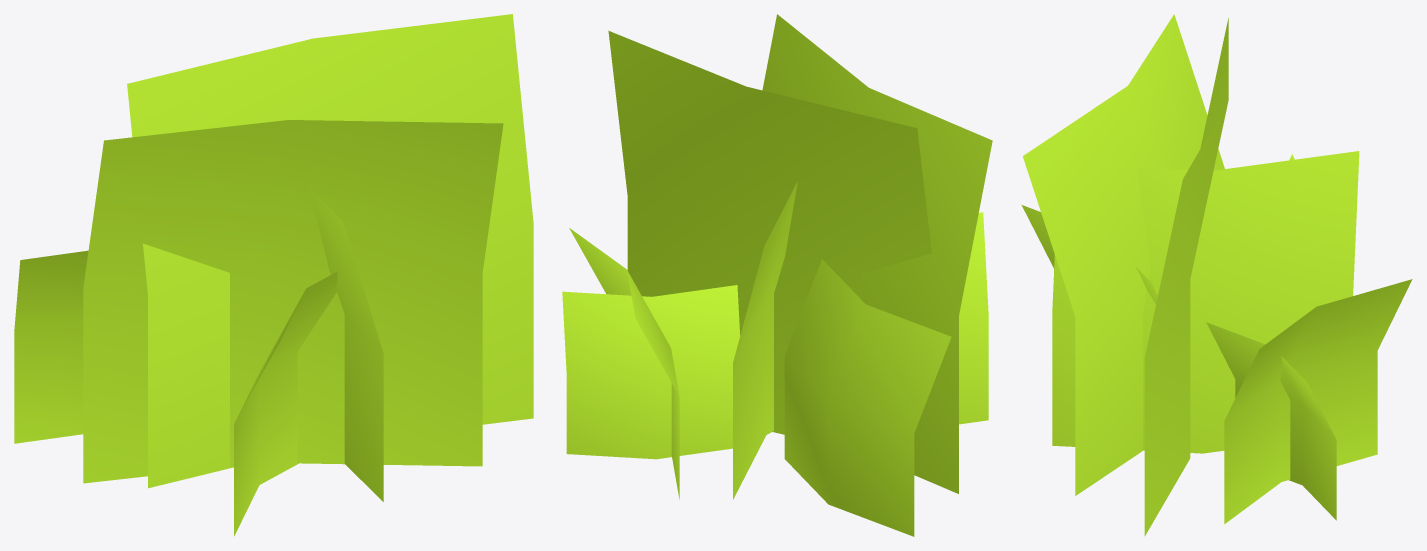
File: SM_Grass_A1.glb
3 views of the same model, side by side, from view 1: azimuth 30°, elevation 25°; view 2: azimuth 150°, elevation 25°; view 3: azimuth 270°, elevation 25° (orthographic). The views are drawn at different scales.
Parts seen in each view (by area): view 1: SM_Grass_A1; view 2: SM_Grass_A1; view 3: SM_Grass_A1.
Part boxes in pixels (bbox=[...]): SM_Grass_A1: bbox=[14, 14, 533, 536]; SM_Grass_A1: bbox=[562, 14, 992, 536]; SM_Grass_A1: bbox=[1021, 14, 1412, 536].
Size of the model in its own units: 2.34 by 2.01 by 1.98.
1 material, 1 textured.
